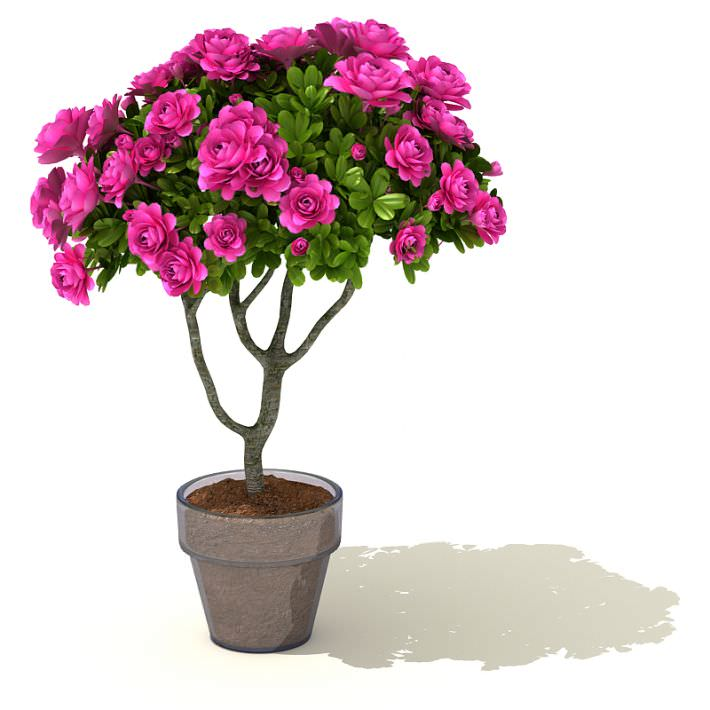tire: (179, 470, 345, 655)
